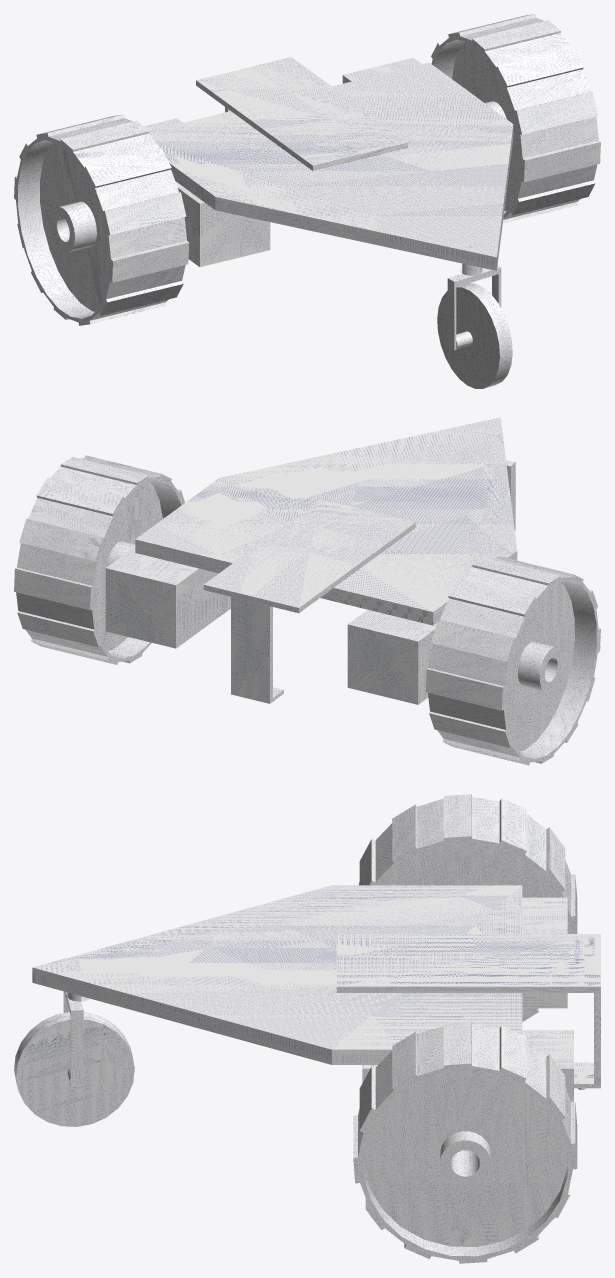
3 renders of one model, top to bottom at view 1: azimuth 30°, elevation 25°; view 2: azimuth 150°, elevation 25°; view 3: azimuth 270°, elevation 25°, orthographic. The views are drawn at different scales.
Parts seen in each view (by area): view 1: Wheel (×5), HDPE_base, senser, Pivot_wheel (×2), motor (×2); view 2: Wheel (×5), HDPE_base, senser, motor (×2), Pivot_wheel; view 3: Wheel (×6), HDPE_base, senser, Pivot_wheel (×2), motor (×2).
Boxes of the visible parts, x1,y1,x2,y2 form: Wheel (×5): (14,14,600,325); HDPE_base: (149,62,513,270); senser: (196,57,408,170); Pivot_wheel (×2): (437,240,512,388); motor (×2): (144,58,421,266); Wheel (×5): (14,455,600,765); HDPE_base: (135,417,517,625); senser: (203,499,415,703); motor (×2): (105,546,436,704); Pivot_wheel: (474,429,515,530); Wheel (×6): (353,794,577,1263); HDPE_base: (32,885,522,1064); senser: (336,934,600,1088); Pivot_wheel (×2): (14,959,134,1126); motor (×2): (362,897,573,1101).
Bounding box in the file's own units: 483 × 445 × 167.
